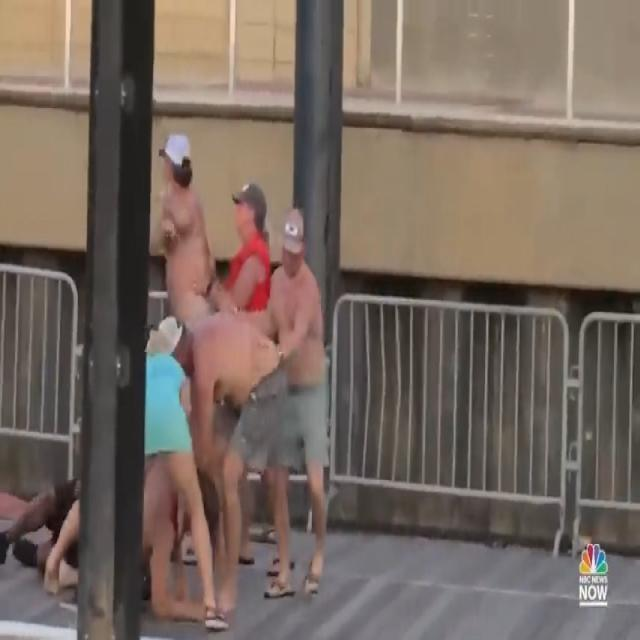fight: (0, 116, 347, 640)
